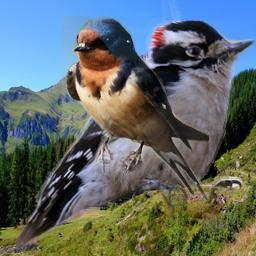Swallow: (62, 16, 209, 202)
Woodpecker: (16, 20, 256, 253)
